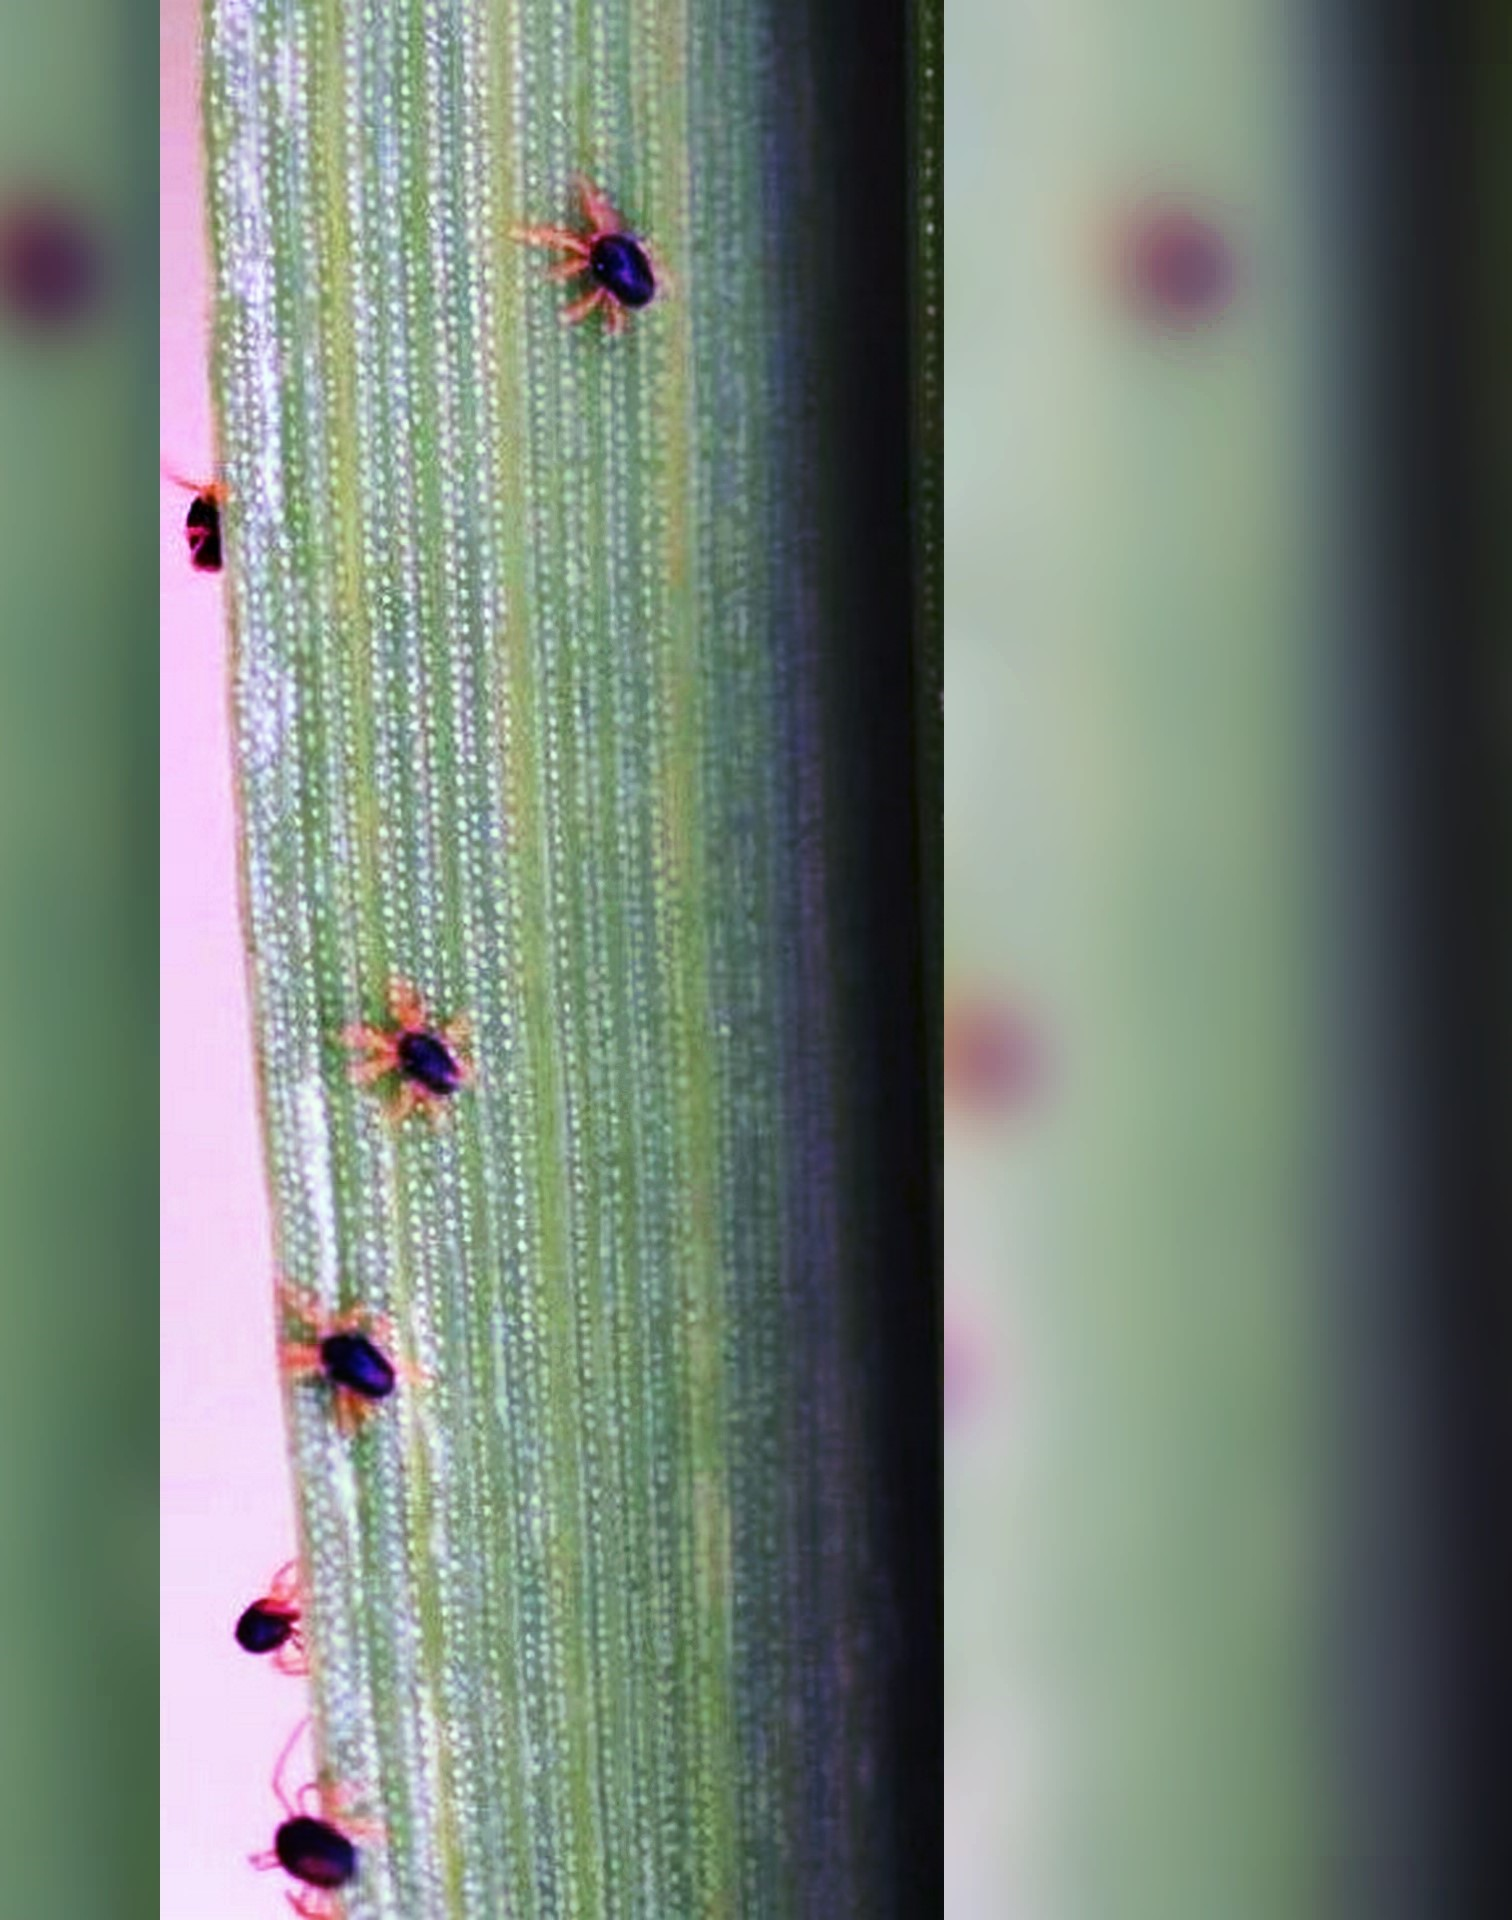Wheat Red Spider: (496, 164, 691, 363)
